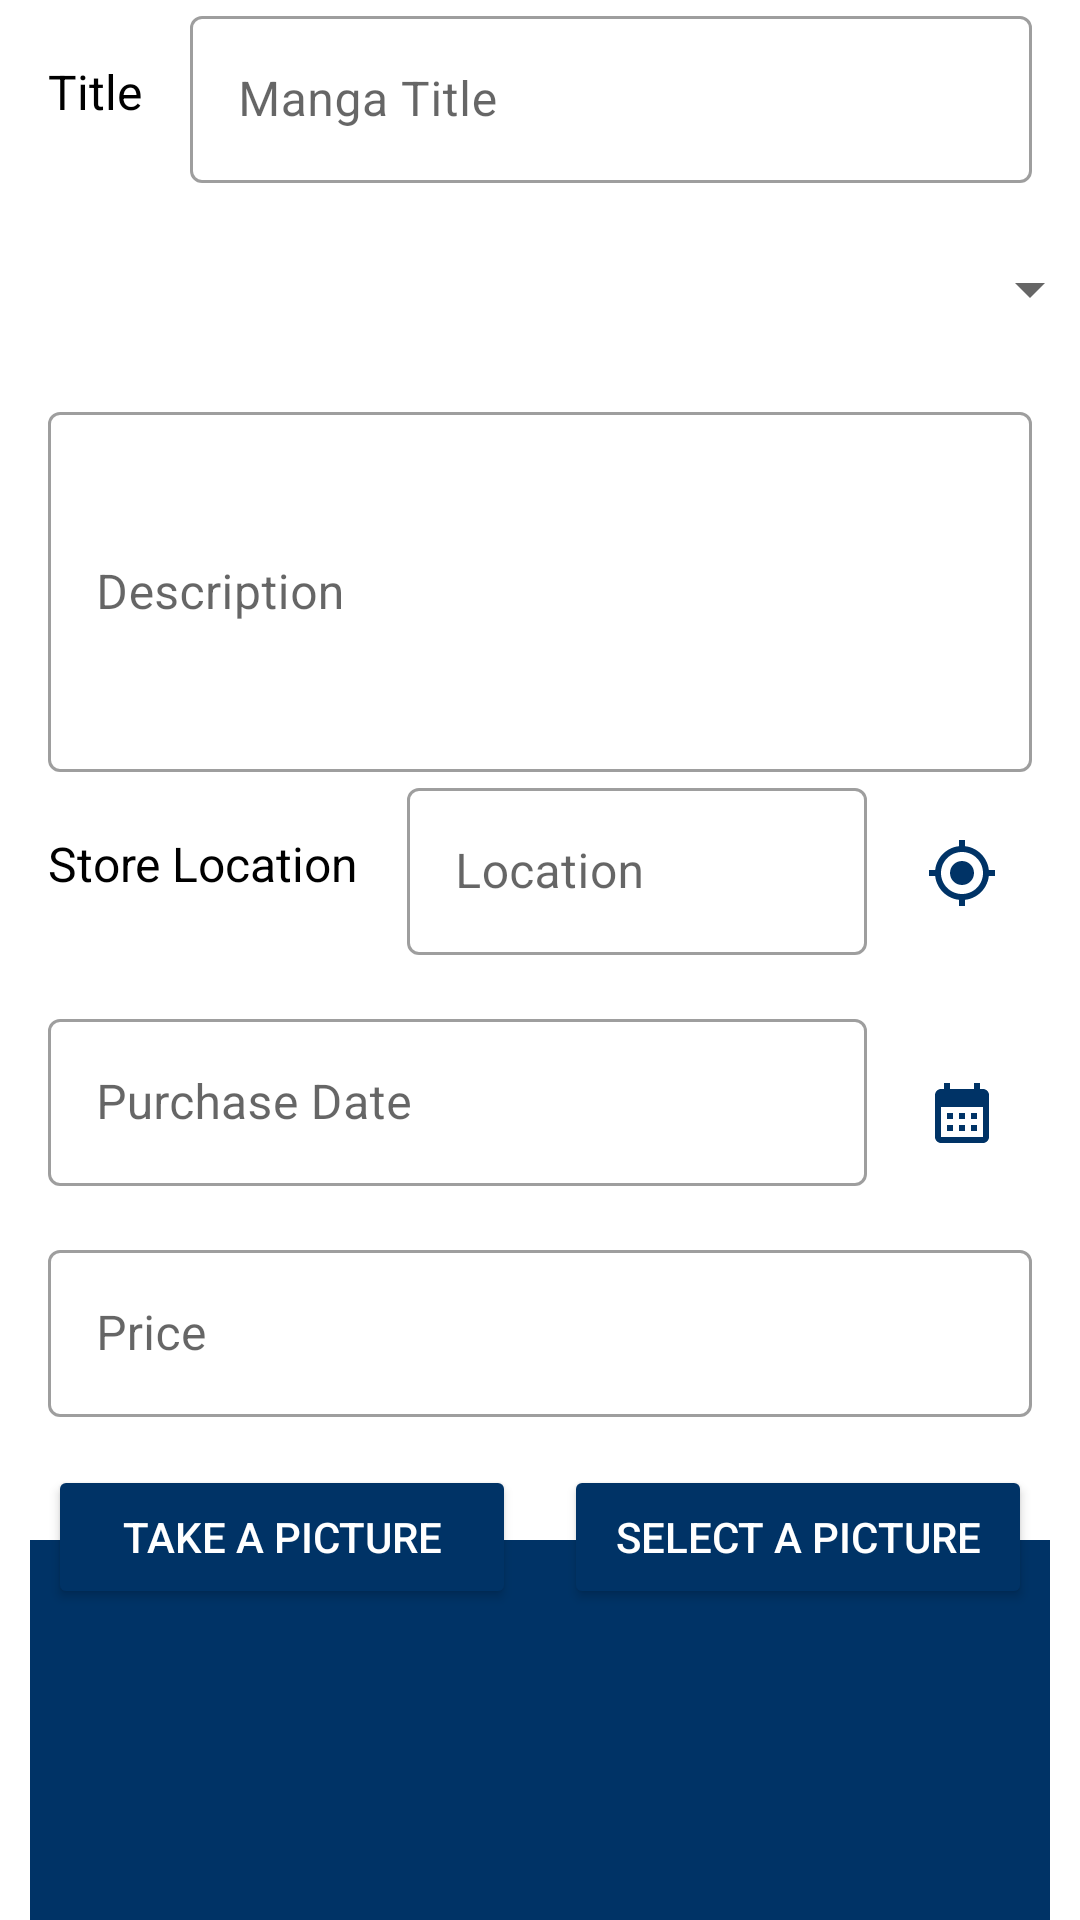

Named icons in this screenshot (1080 × 1920) and their bounding boxes, (x1, y1, x2, y2):
calendar month: (935, 1083, 989, 1143)
Take gps position: (929, 840, 995, 906)
